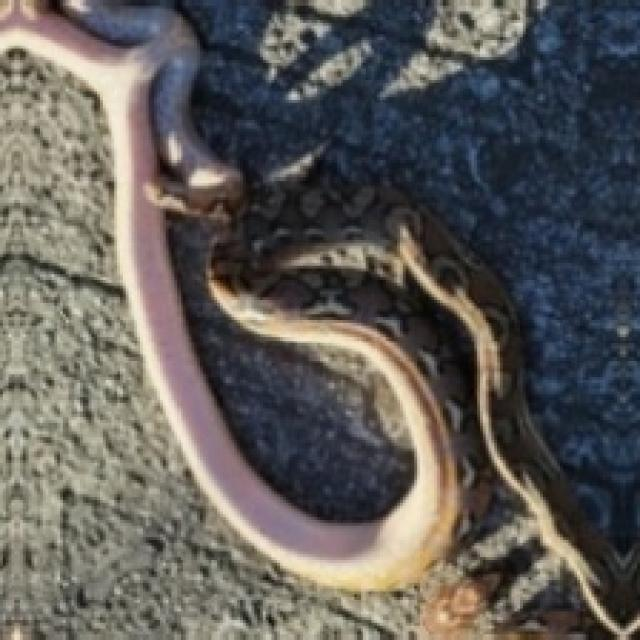reticulated python: (0, 0, 640, 640), (277, 0, 377, 109)
